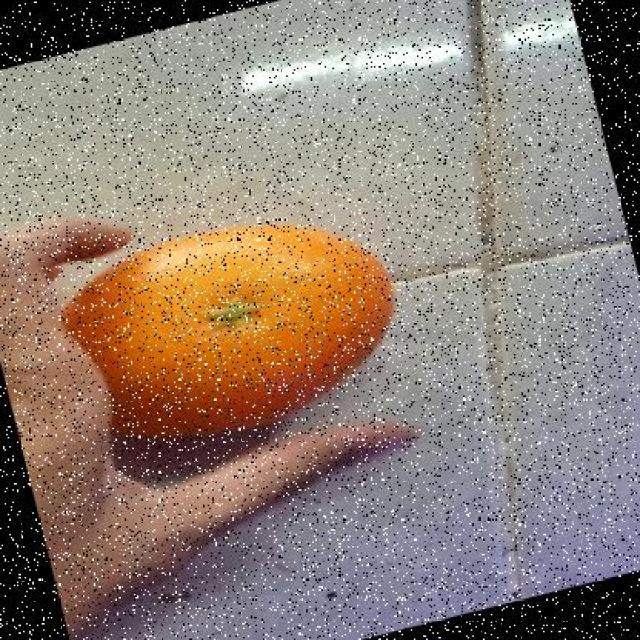Orange: (58, 220, 396, 440)
